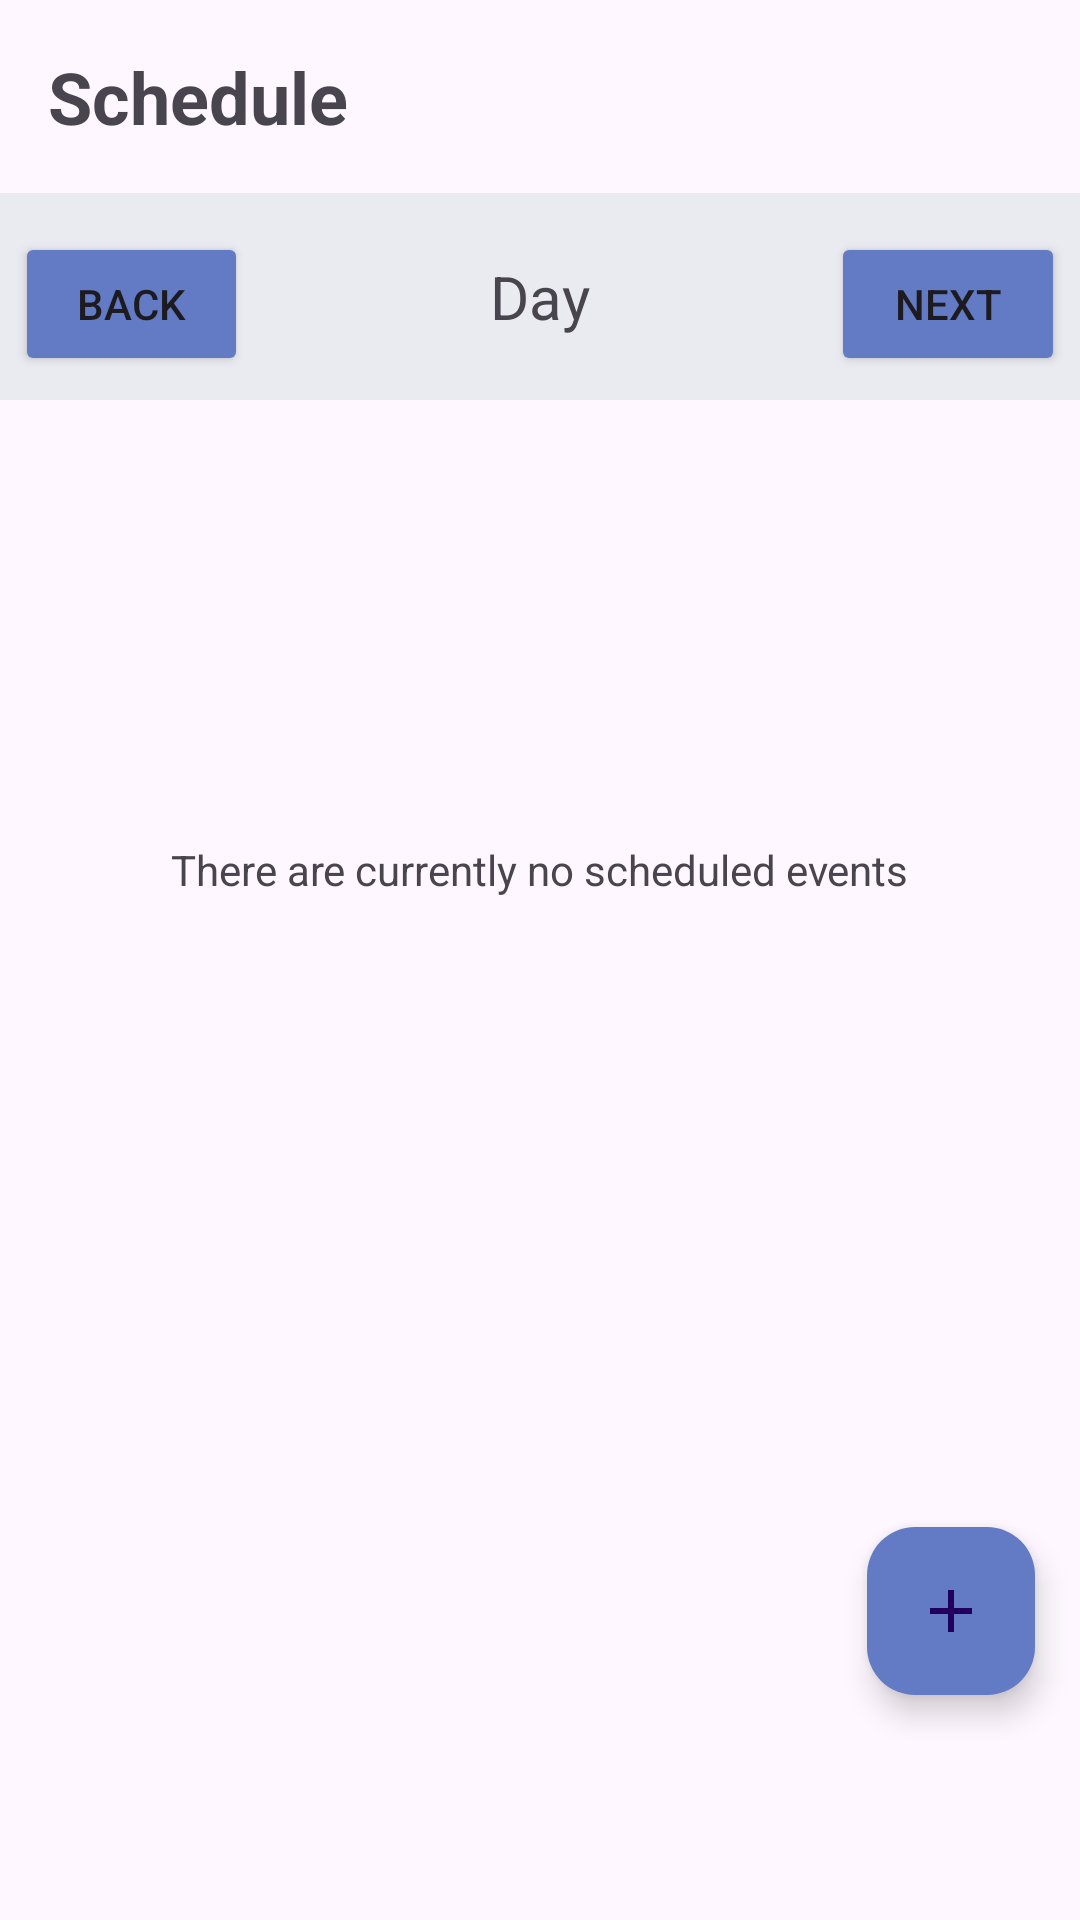

Icons on this 1080x1920 Android screen, each with the point to tap as point (x, y):
add: point (951, 1611)
